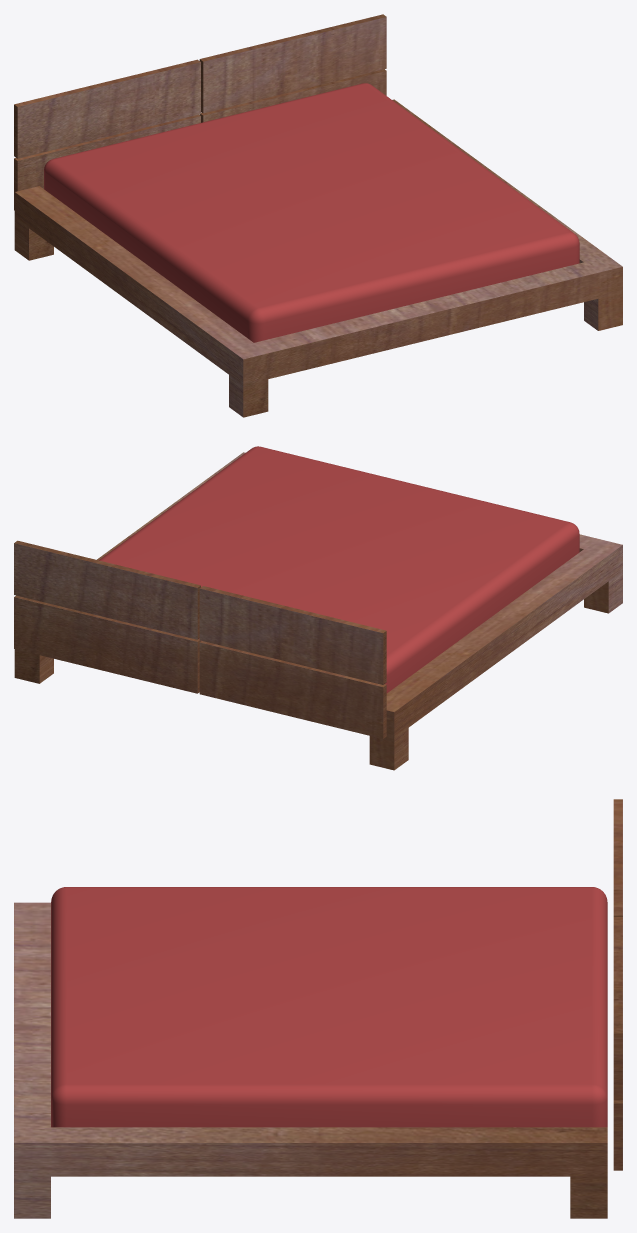
The model's file is letto.obj.
3 renders of one model, top to bottom at view 1: azimuth 30°, elevation 25°; view 2: azimuth 150°, elevation 25°; view 3: azimuth 270°, elevation 25°, orthographic. The views are drawn at different scales.
Visible parts, largest first — view 1: ChamferBox02_1, Line21_7, Box46_5, Box49_9, Box45_4, Box50_10, Box44_3, Box47_6, Box43_2; view 2: ChamferBox02_1, Line21_7, Box46_5, Box49_9, Box45_4, Box50_10, Box43_2, Box48_8, Box44_3; view 3: ChamferBox02_1, Line21_7, Box49_9, Box48_8, Box47_6, Box46_5, Box50_10.
Part boxes in pixels (<box>): ChamferBox02_1: <box>44,83,579,342</box>; Line21_7: <box>14,99,622,385</box>; Box46_5: <box>14,59,200,158</box>; Box49_9: <box>199,14,386,113</box>; Box45_4: <box>14,114,200,210</box>; Box50_10: <box>199,69,386,122</box>; Box44_3: <box>229,375,268,417</box>; Box47_6: <box>584,293,622,330</box>; Box43_2: <box>14,218,53,260</box>; ChamferBox02_1: <box>99,446,579,693</box>; Line21_7: <box>97,452,622,737</box>; Box46_5: <box>199,586,386,684</box>; Box49_9: <box>14,540,200,639</box>; Box45_4: <box>199,641,386,738</box>; Box50_10: <box>14,595,200,693</box>; Box43_2: <box>369,728,408,770</box>; Box48_8: <box>14,649,53,683</box>; Box44_3: <box>584,571,622,613</box>; ChamferBox02_1: <box>51,887,607,1127</box>; Line21_7: <box>14,902,607,1176</box>; Box49_9: <box>613,917,622,1100</box>; Box48_8: <box>570,1176,607,1218</box>; Box47_6: <box>14,1176,50,1218</box>; Box46_5: <box>613,799,622,916</box>; Box50_10: <box>613,1100,622,1170</box>.
Bounding box in the file's own units: 184 × 65 × 197.
Materials: 2 (1 with a texture image).
